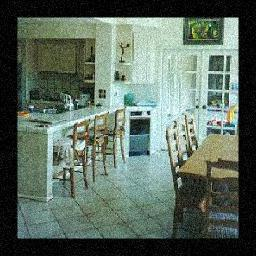Puerta: (162, 50, 236, 130)
